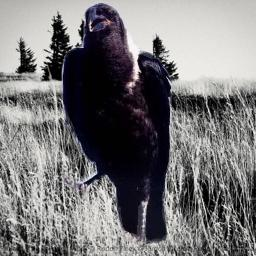Crow: (60, 1, 174, 251)
